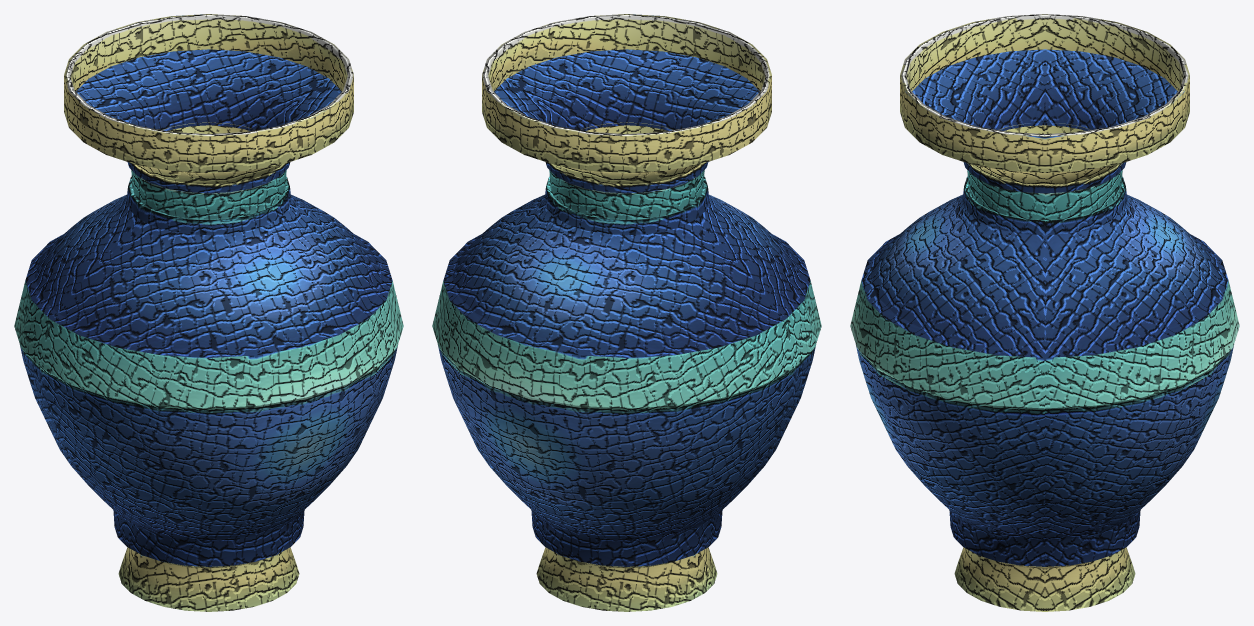
The model's file is BGMD_Pot.fbx.
The picture shows the model from 3 angles, left to right: view 1: azimuth 30°, elevation 25°; view 2: azimuth 150°, elevation 25°; view 3: azimuth 270°, elevation 25°; orthographic projection.
Parts seen in each view (by area): view 1: BGMD_Tubo; view 2: BGMD_Tubo; view 3: BGMD_Tubo.
Part boxes in pixels (x1,y1,x2,y2): BGMD_Tubo: (14, 14, 403, 611); BGMD_Tubo: (432, 14, 821, 611); BGMD_Tubo: (850, 14, 1239, 611).
Size of the model in its own units: 19.53 by 27.57 by 19.53.
